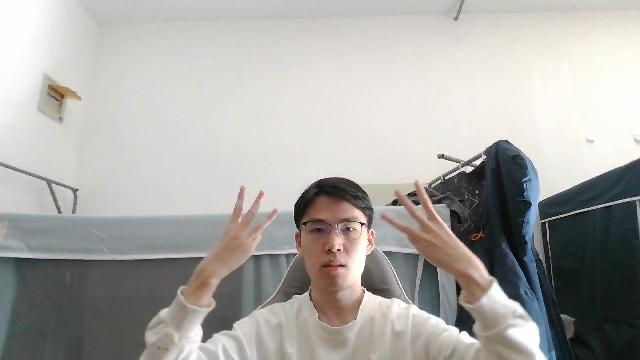three: (374, 179, 478, 278), (199, 181, 281, 278)
